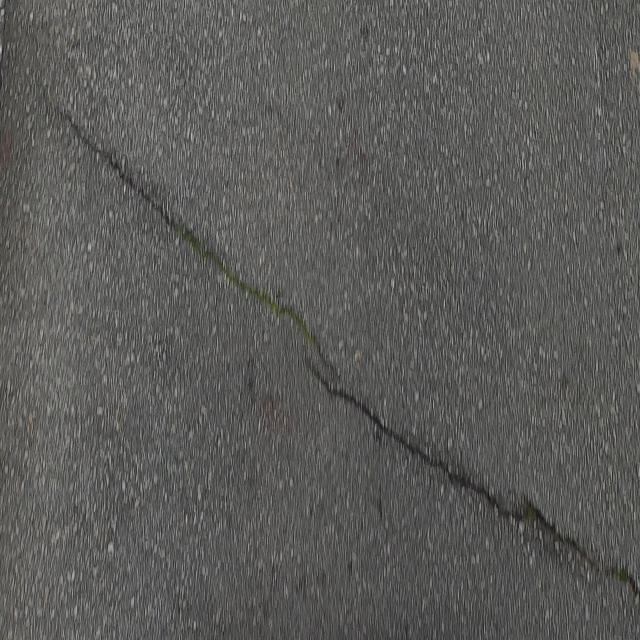Retak-Melintang: (54, 100, 346, 376)
